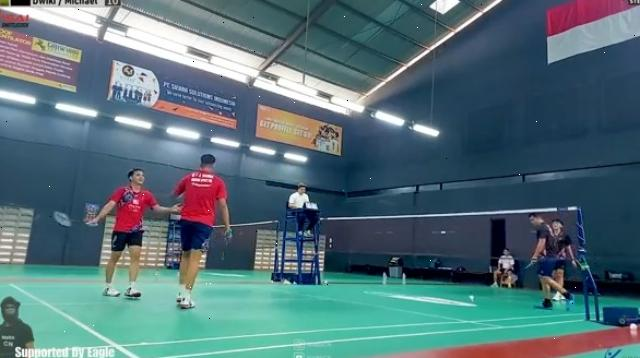Shuttlecock: (468, 292, 478, 302)
